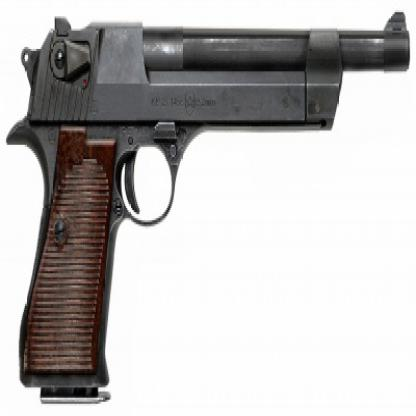Guns: (2, 6, 415, 414)
